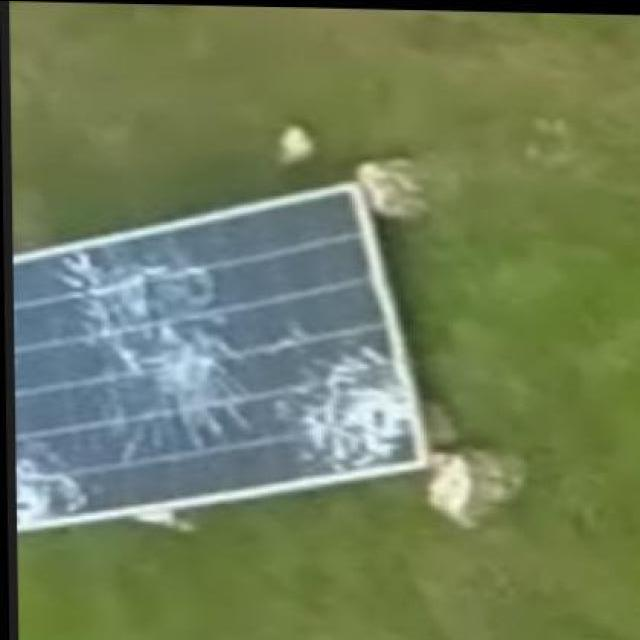cracked: (15, 184, 422, 534)
